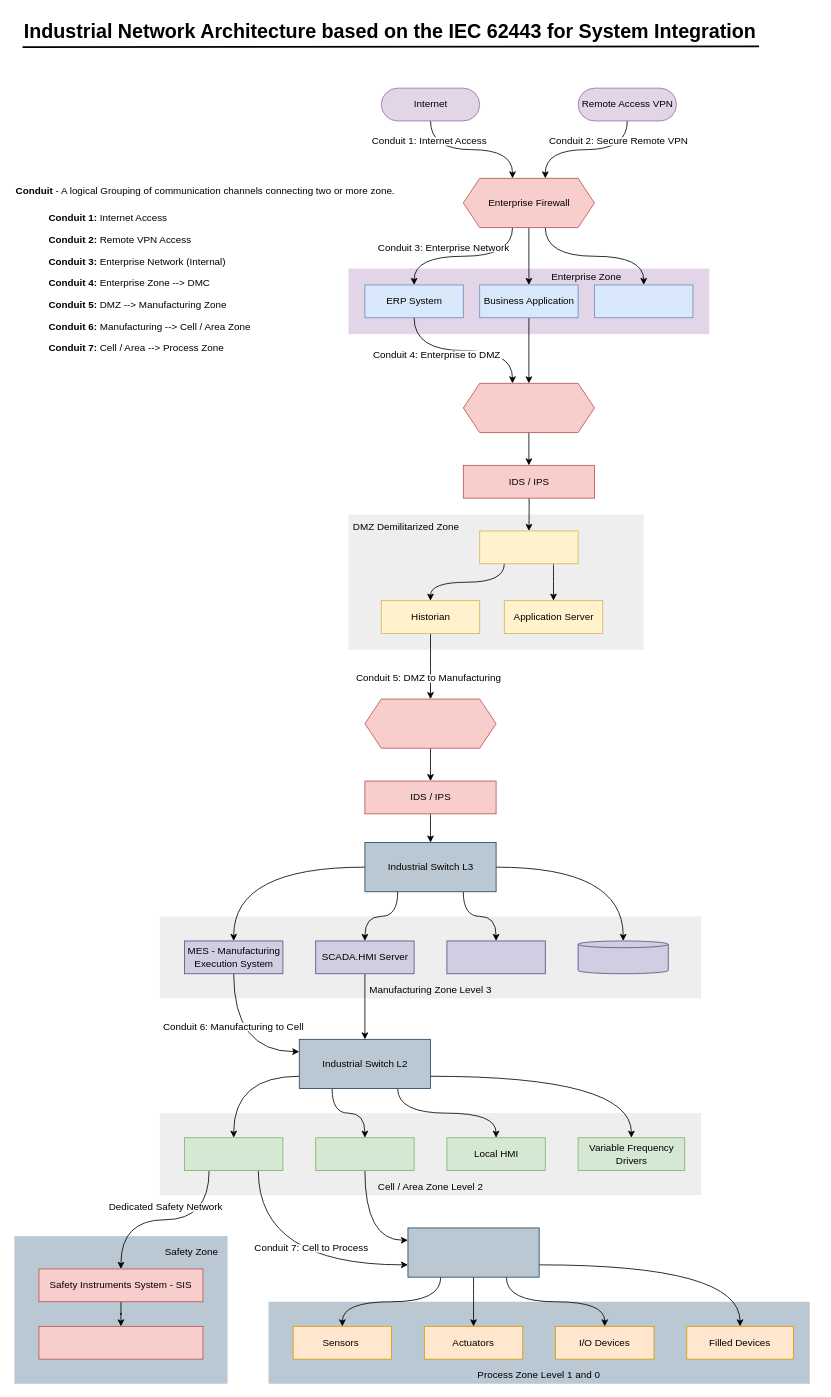
This 831x1397 diagram has some shape labels left out. The shapes that lost their labels are listed below. From the top down, each one's centre as x and y in pixels, then its label:
At (643,301): "Email & Office".
At (528,408): "Industrial Firewall 1".
At (528,547): "DMZ Services".
At (430,723): "Industrial Firewall 2".
At (495,957): "Engineering Workstation".
At (622,957): "Manufacturing Database".
At (233,1154): "PLC / Controller 1".
At (364,1154): "PLC / Controller 2".
At (473,1252): "Industrial Switch L1/0".
At (120,1342): "Emergency Stop System".
